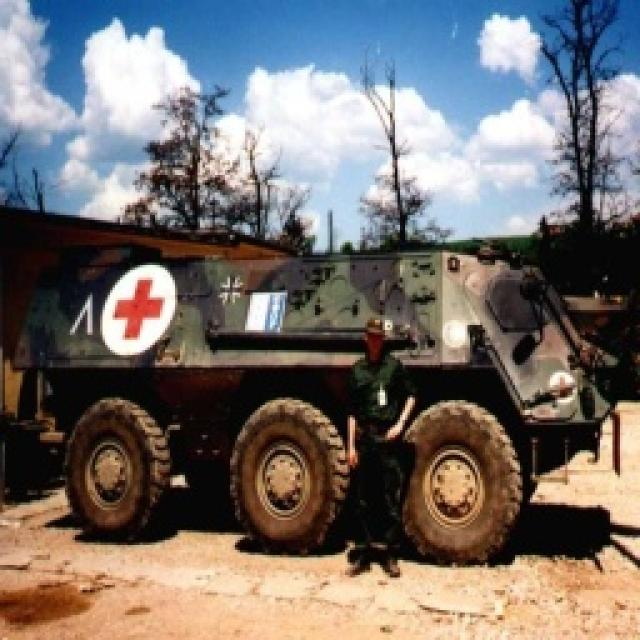ambulance: (3, 238, 635, 552), (590, 5, 640, 233)
